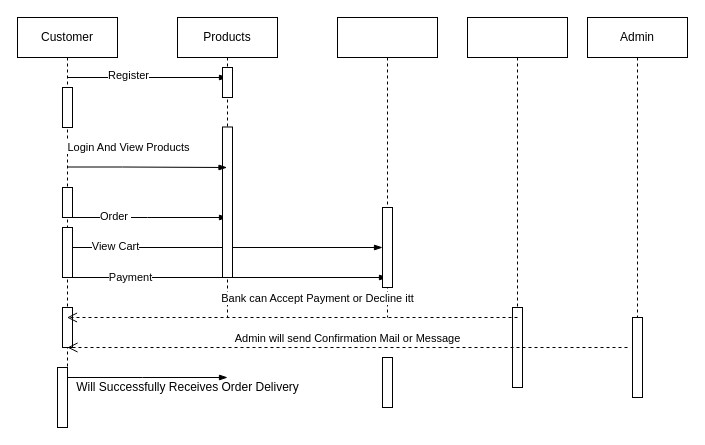
Image size: 705x445. Some labels were removed from this diagram. Each missing label, with the box of its shape:
Bank: (466, 16, 568, 388)
Cart: (336, 16, 438, 318)
